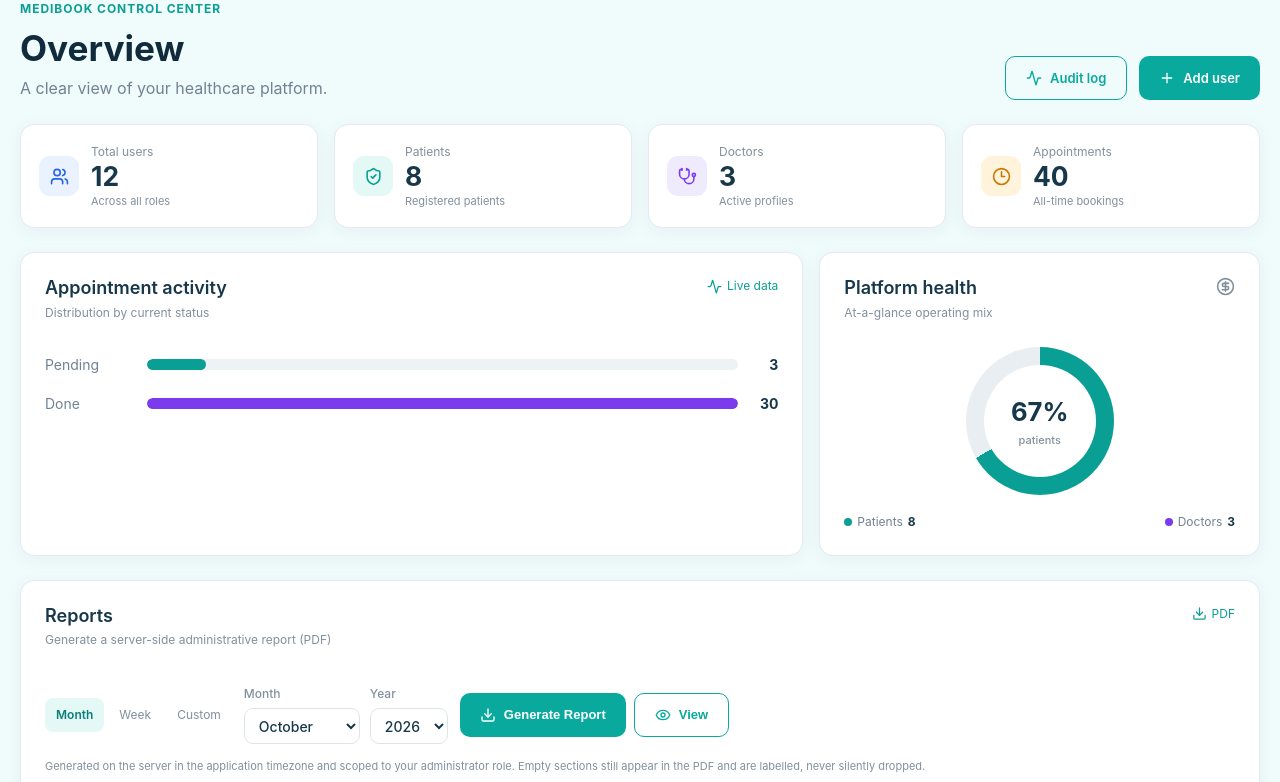
Test: AdminReportsCard › asks for both custom dates before generating anything
Expected: the heading "Reports" is shown, [45,605,113,626]
Click the button "Custom". click: (199, 715)
box: [166,698,232,732]
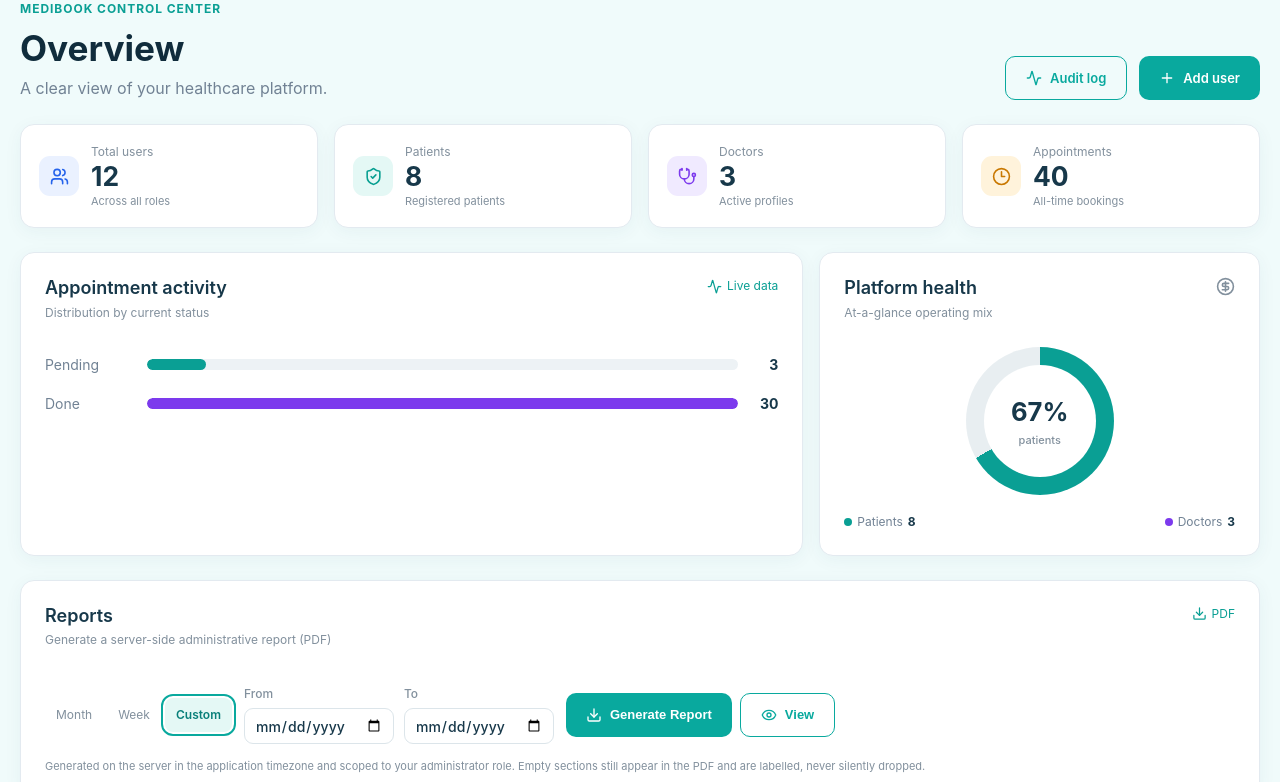
Click the button "Generate Report". click: (649, 715)
box: [566,693,732,737]
(page scrolled)
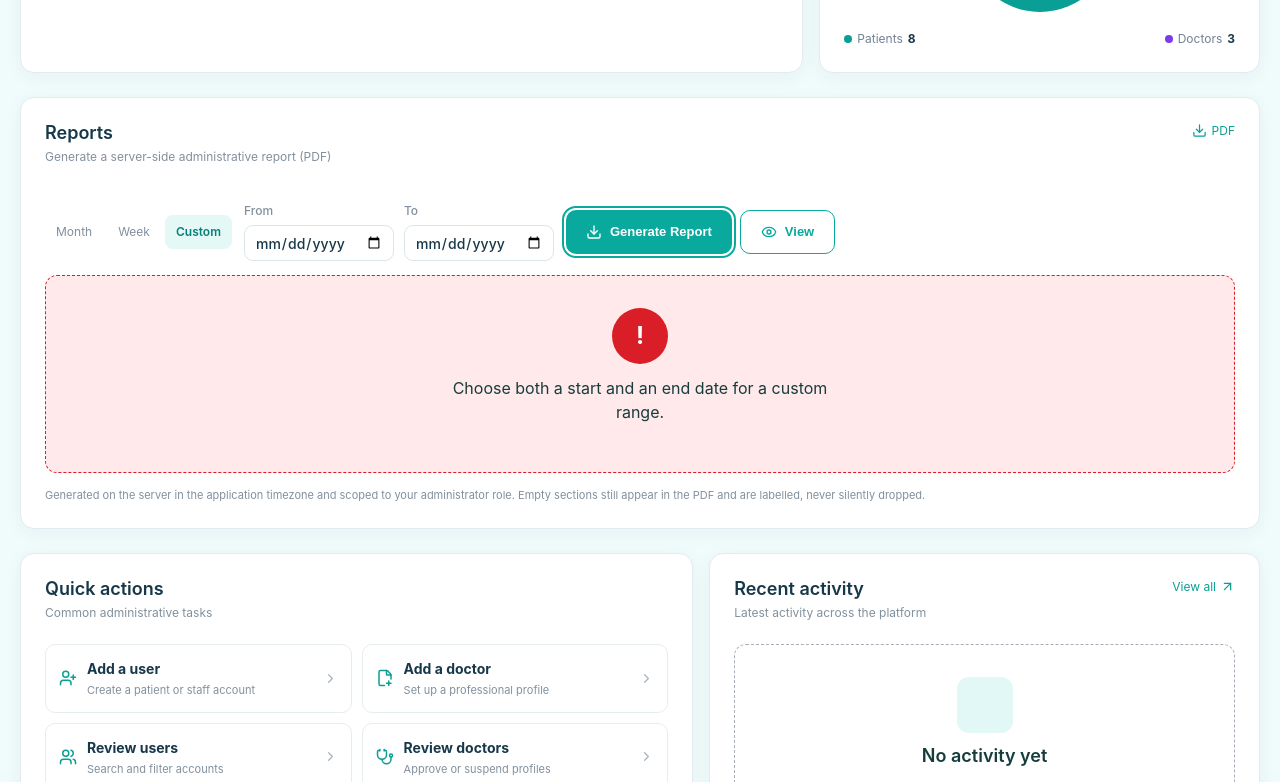
Now the text "Choose both a start and an end date for a custom range." is shown, box [438,376,842,424]
